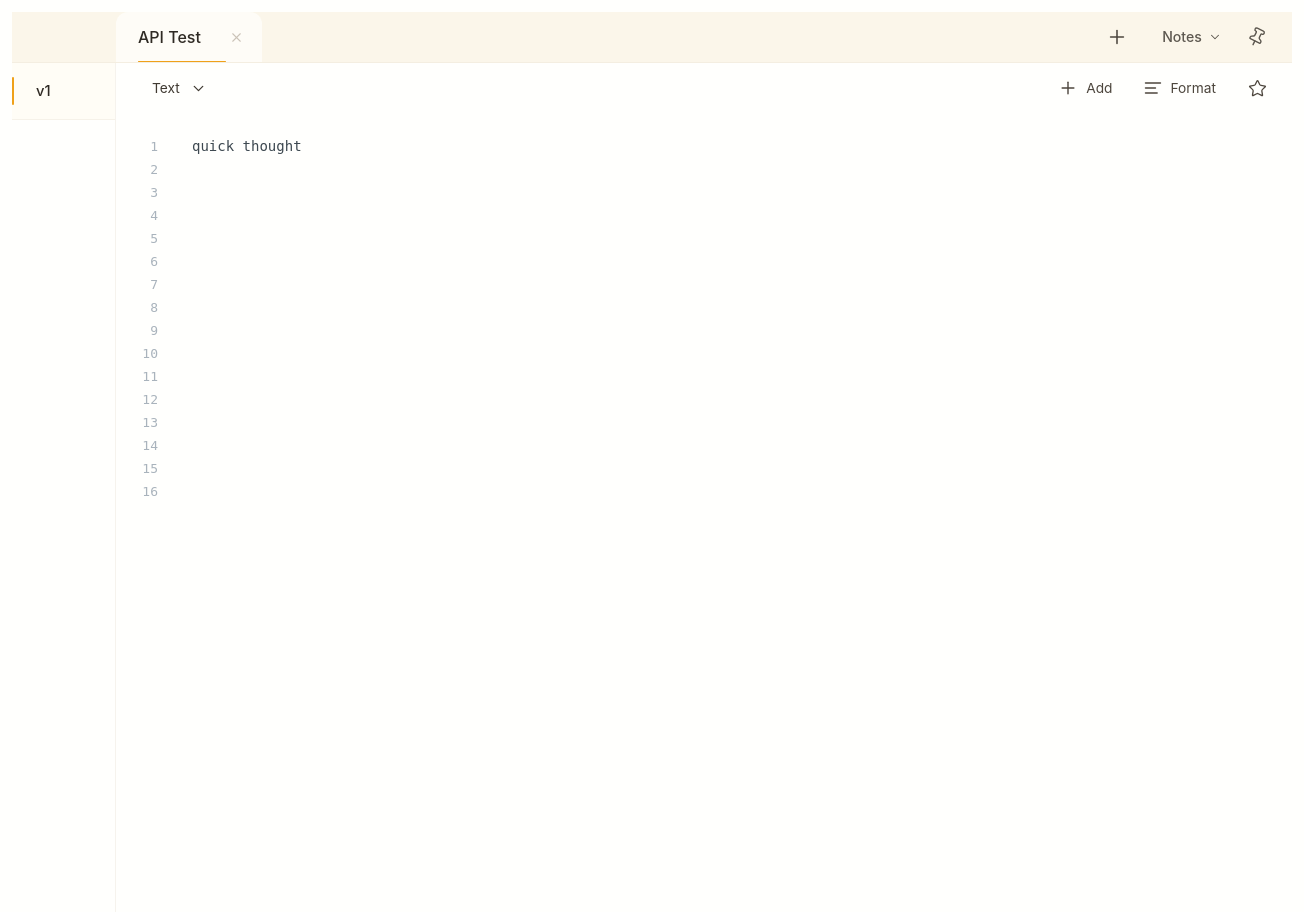
Test: App formatting › treats Text format as a no-op with a lightweight hint
Click the button "Format". click: (1179, 88)
box: [1134,69,1224,107]
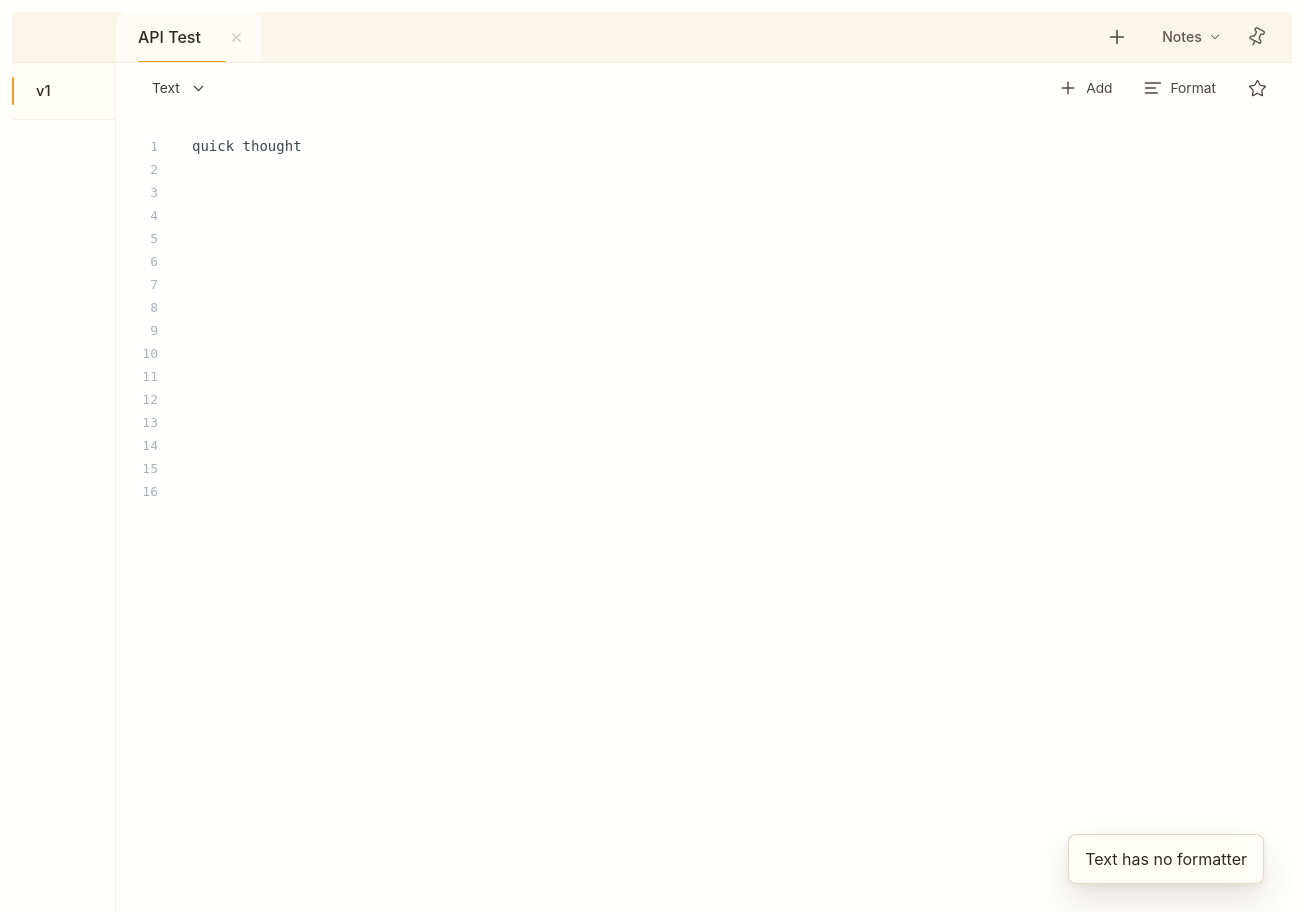
Expected: the text box named "Editor" holds "quick thought", [168,113,1292,525]
Now the message reads "Text has no formatter", box [1085,849,1247,869]
